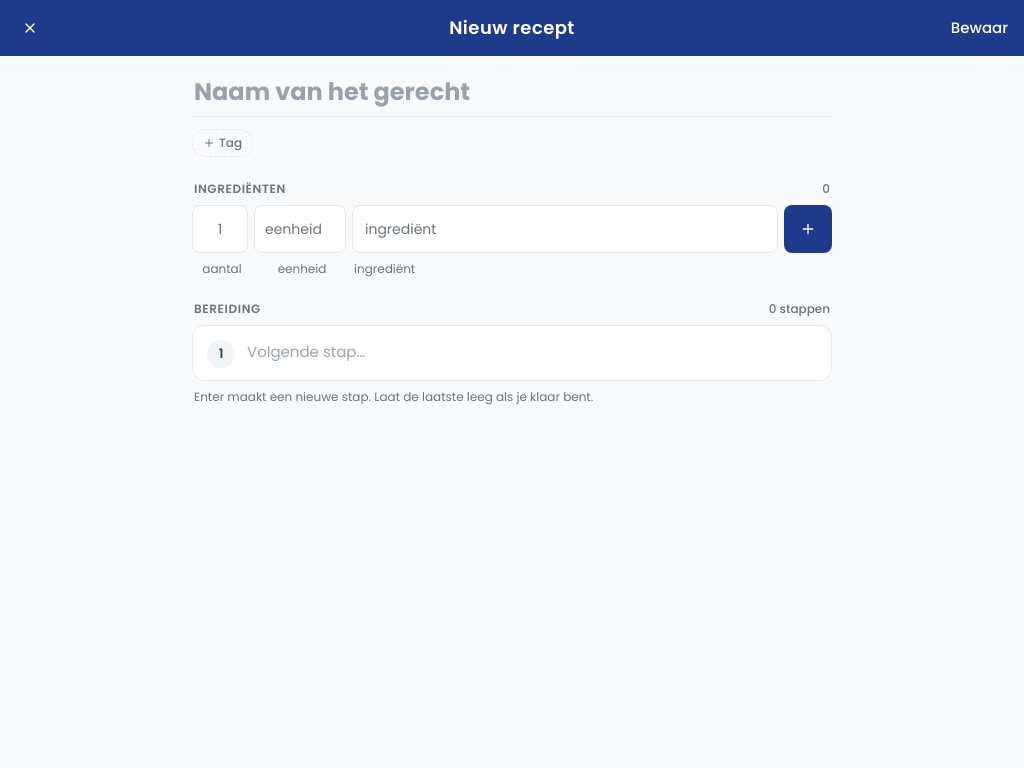
Test: RecipeForm › shows an added line with its quantity and clears the entry row for the next
Type "300" into the field named "Aantal" at (220,229), box [192,205,248,253]
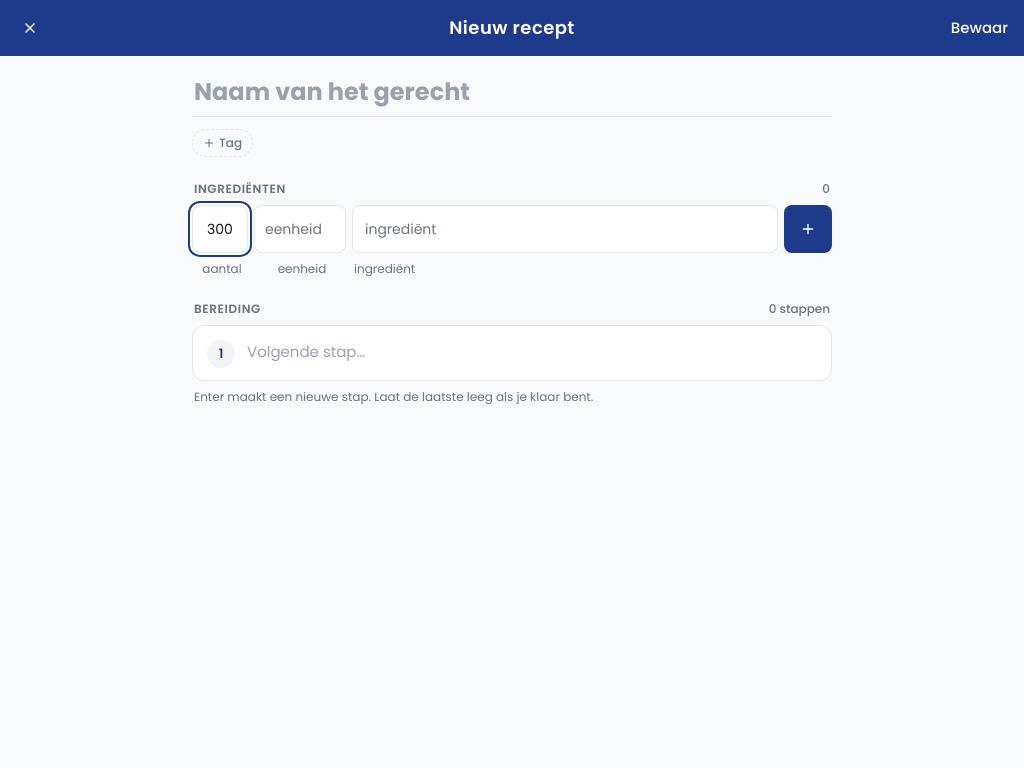
Type "g" into the field labelled "eenheid" at (300,229), box [254,205,346,253]
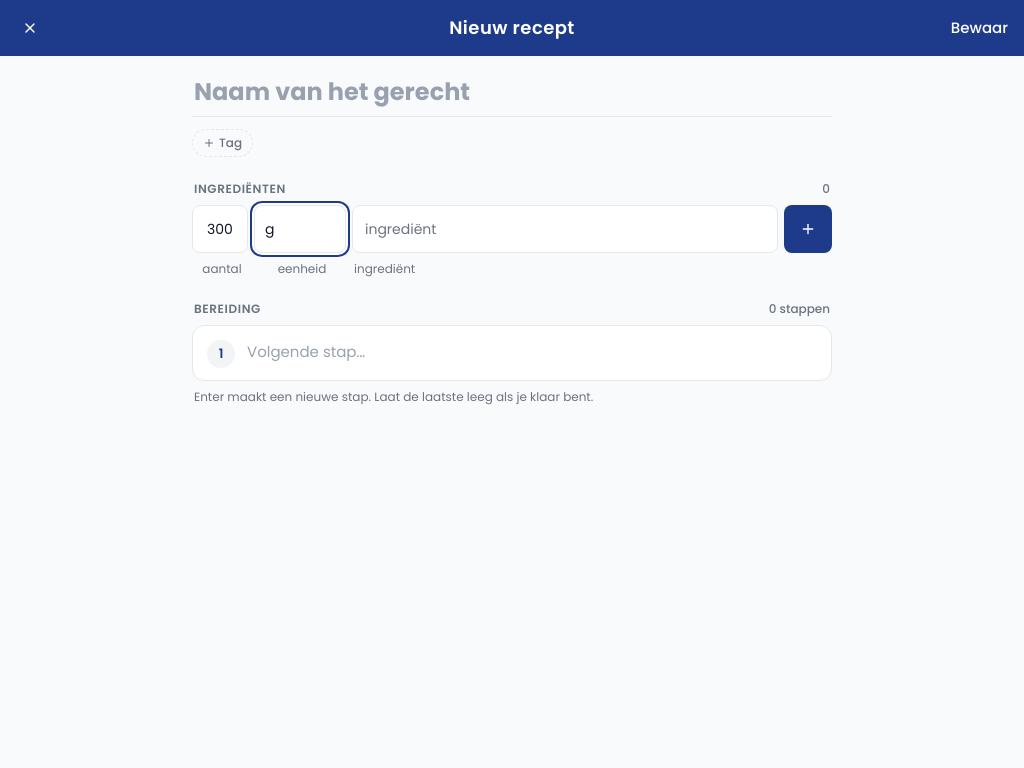
Type "pasta" into the field labelled "ingrediënt" at (565,229), box [352,205,778,253]
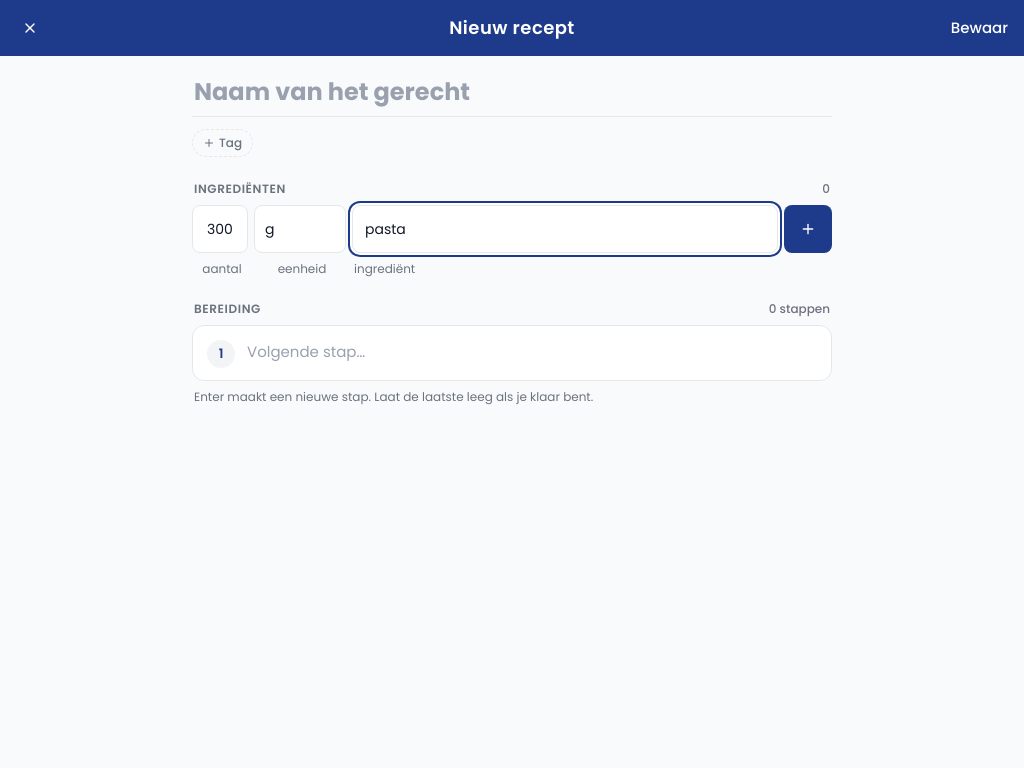
Click the button named "Ingrediënt toevoegen" at (808,229), box [784,205,832,253]
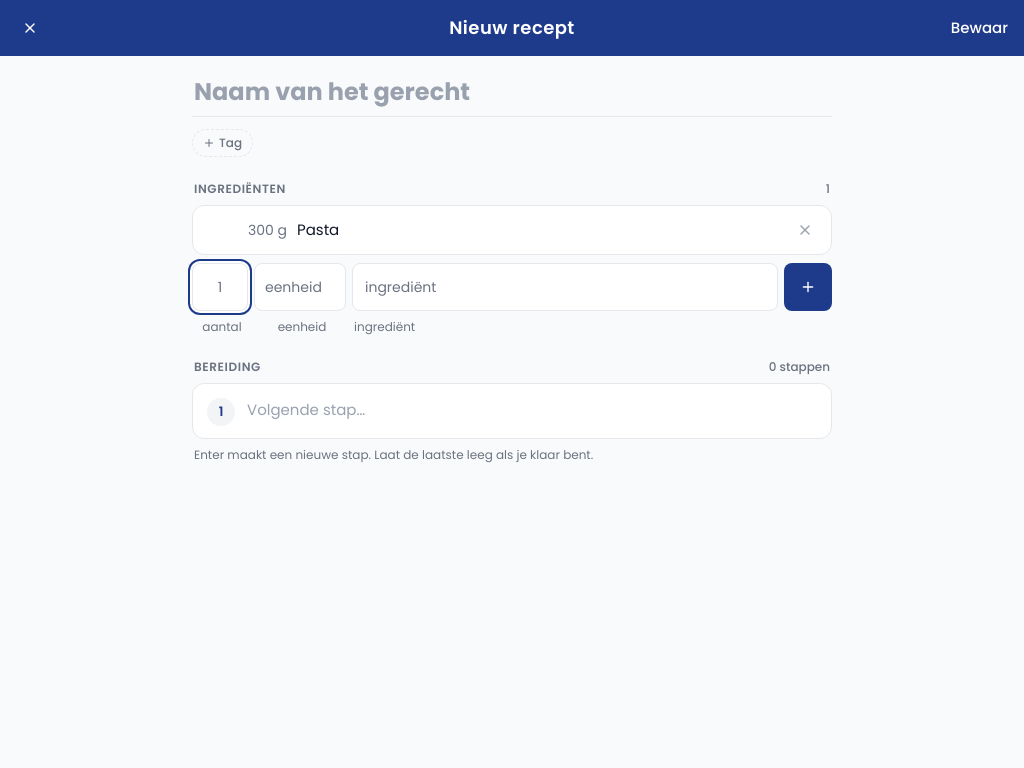
Expected: the text "pasta" is shown, [297,219,339,240]
Expected: the text "300 g" is shown, [248,220,287,240]
Expected: the field labelled "ingrediënt" is empty, [352,263,778,311]
